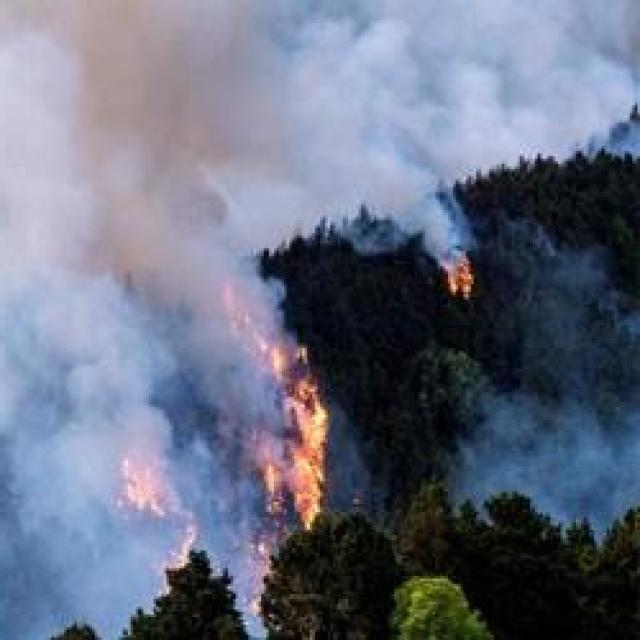fire: (278, 392, 336, 518)
smoke: (0, 0, 224, 302), (268, 1, 640, 152), (0, 286, 157, 593), (201, 282, 286, 430)
